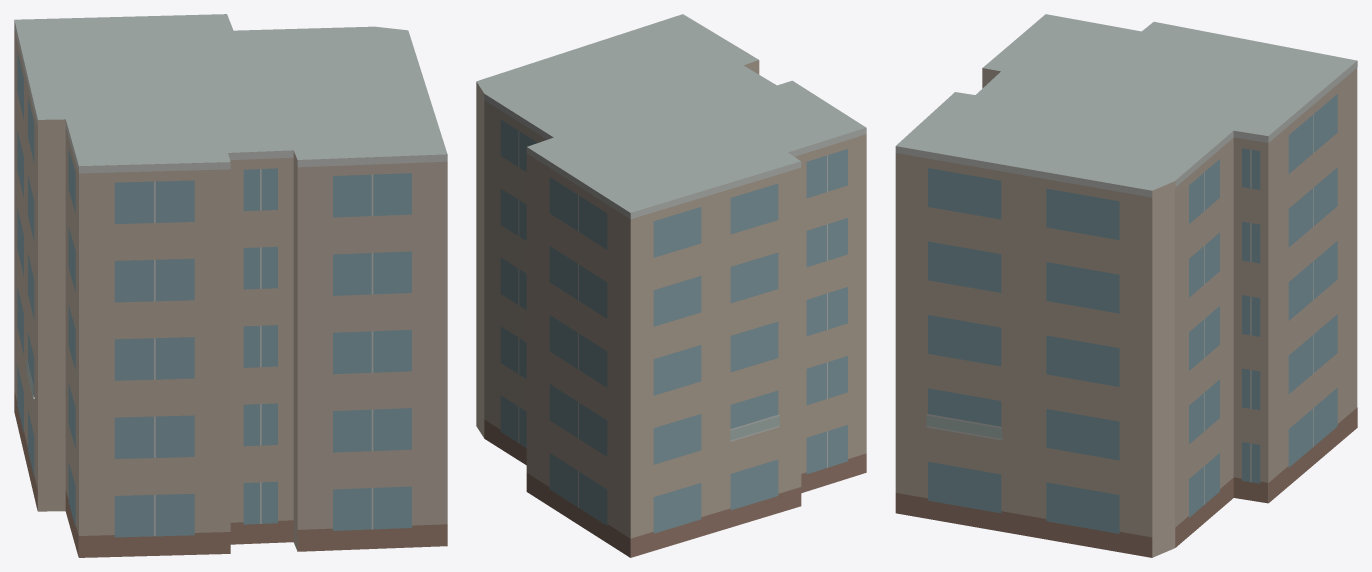
Rendered from survey-upis-32822439.glb.
3 views of the same model, side by side, from view 1: azimuth 30°, elevation 25°; view 2: azimuth 150°, elevation 25°; view 3: azimuth 270°, elevation 25° (orthographic). The views are drawn at different scales.
Visible parts, largest first — view 1: survey-upis-32822439.tmp; view 2: survey-upis-32822439.tmp; view 3: survey-upis-32822439.tmp.
Boxes of the visible parts, x1=… form: survey-upis-32822439.tmp: x1=14, y1=14, x2=447, y2=557; survey-upis-32822439.tmp: x1=476, y1=14, x2=866, y2=557; survey-upis-32822439.tmp: x1=895, y1=14, x2=1357, y2=557.
Bounding box in the file's own units: 13.53 × 13.1 × 14.94.
